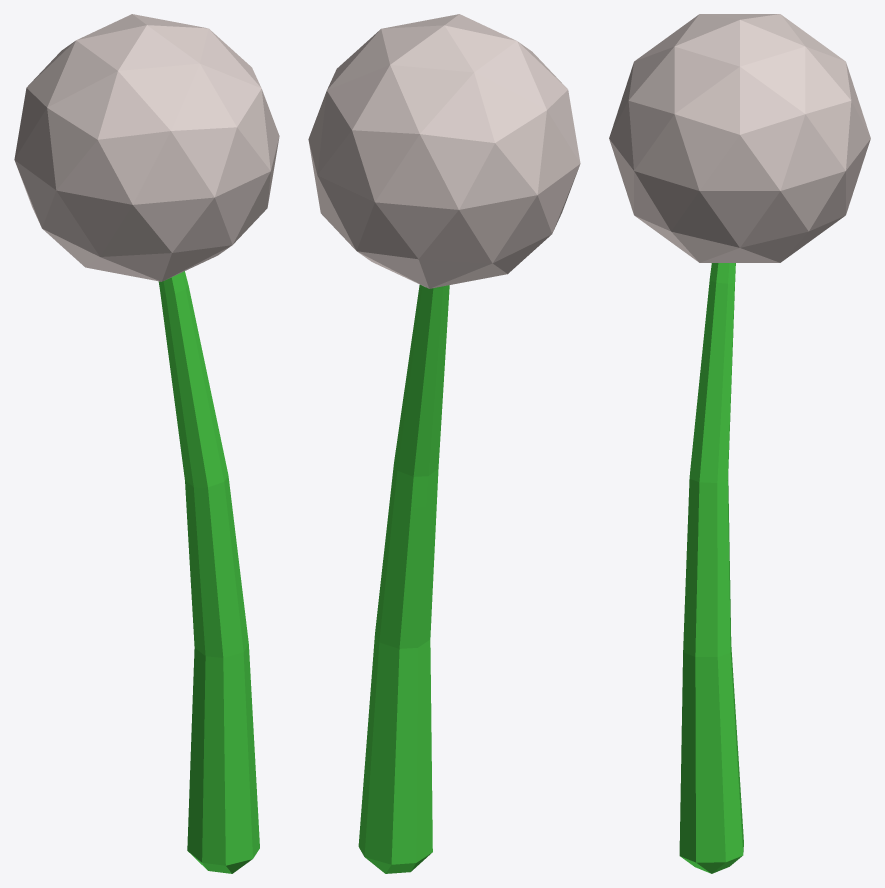
File: DandelionSeed.fbx
3 renders of one model, left to right at view 1: azimuth 30°, elevation 25°; view 2: azimuth 150°, elevation 25°; view 3: azimuth 270°, elevation 25°, orthographic. The views are drawn at different scales.
Visible parts, largest first — view 1: Icosphere; view 2: Icosphere; view 3: Icosphere.
Boxes of the visible parts, box(x1,y1,x2,y2) form: Icosphere: box(14, 14, 279, 873); Icosphere: box(308, 14, 580, 873); Icosphere: box(609, 14, 870, 873).
Size of the model in its own units: 11.42 by 41.38 by 12.01.
